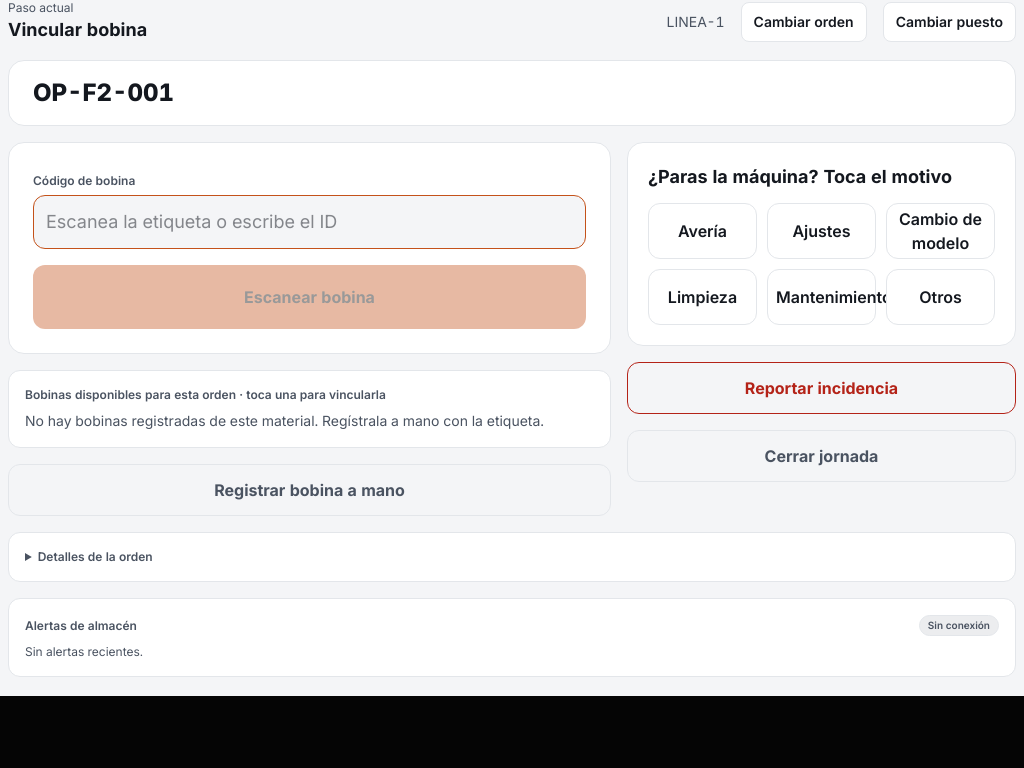
Scenario: Fase 2 pulido: puesto -> cola de ordenes -> panel › el boton cambiar puesto vuelve a la seleccion de puesto
expect the text "Vincular bobina" is shown: met, box x1=8 y1=16 x2=147 y2=44
Click the button "Cambiar puesto". click: (949, 22)
box: x1=883 y1=2 x2=1016 y2=42
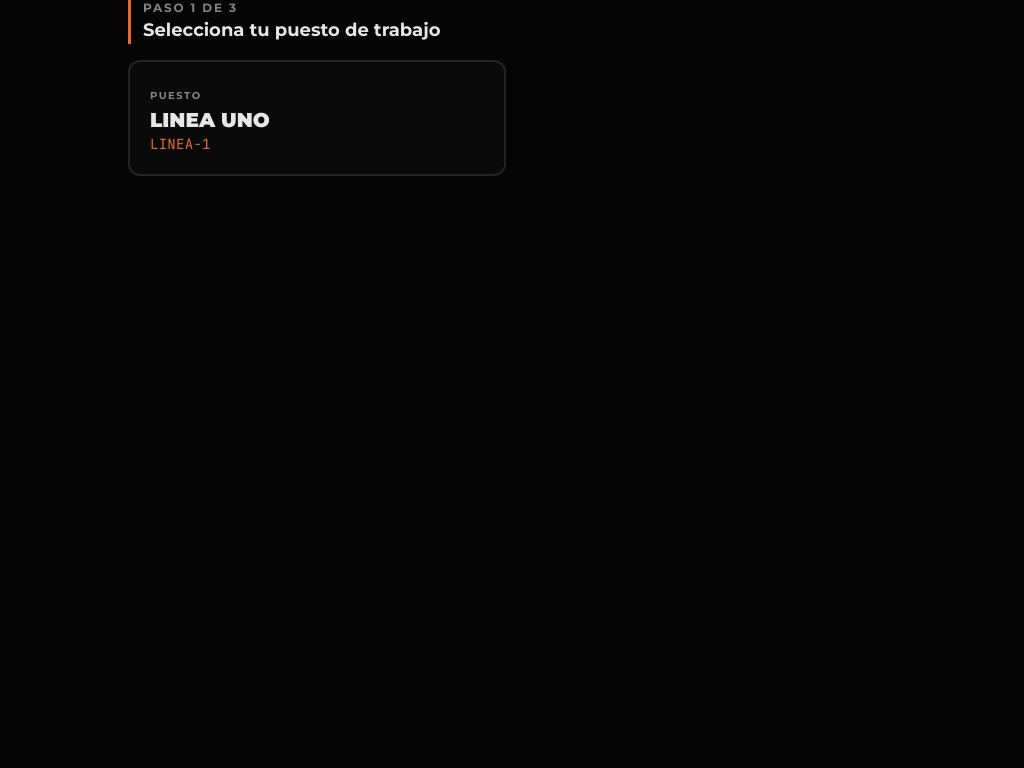
expect the text "Selecciona tu puesto de trabajo" is shown: met, box x1=143 y1=19 x2=440 y2=41
expect the button "Puesto Linea Uno LINEA-1" is shown: met, box x1=128 y1=60 x2=506 y2=176
